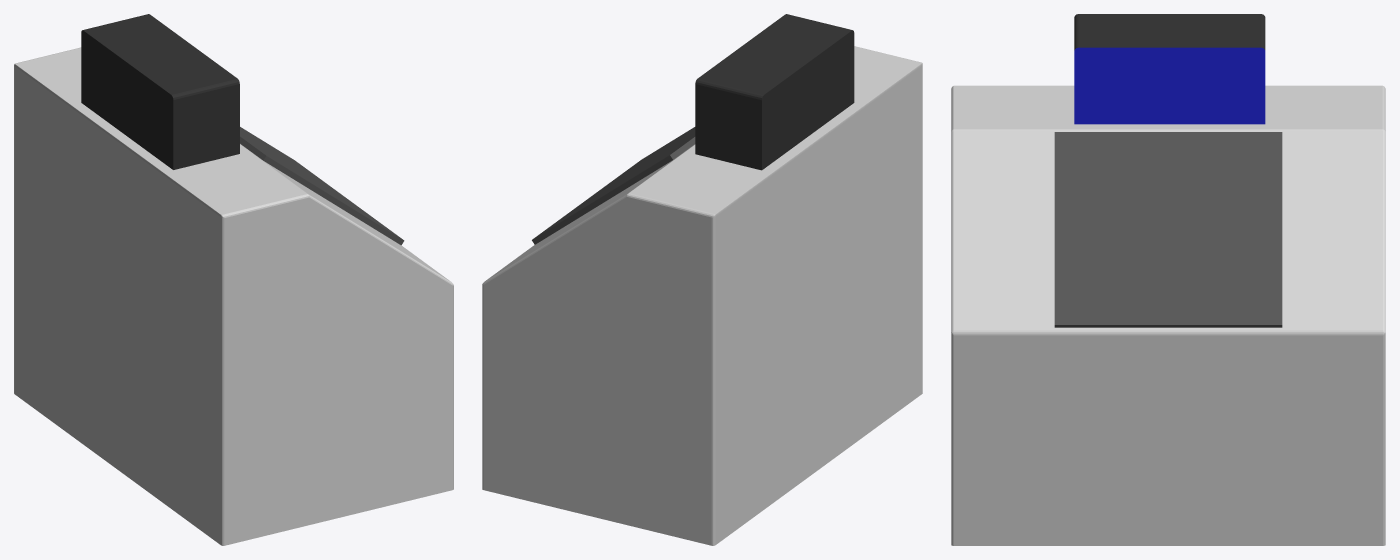
Rendered from iceBox.fbx.
The picture shows the model from 3 angles, left to right: view 1: azimuth 30°, elevation 25°; view 2: azimuth 150°, elevation 25°; view 3: azimuth 270°, elevation 25°; orthographic projection. The views are drawn at different scales.
Visible parts, largest first — view 1: Cube; view 2: Cube; view 3: Cube.
Part boxes in pixels (x1,y1,x2,y2): Cube: (14,14,453,545); Cube: (482,14,922,545); Cube: (951,14,1385,545).
Size of the model in its own units: 200 by 332 by 312.
